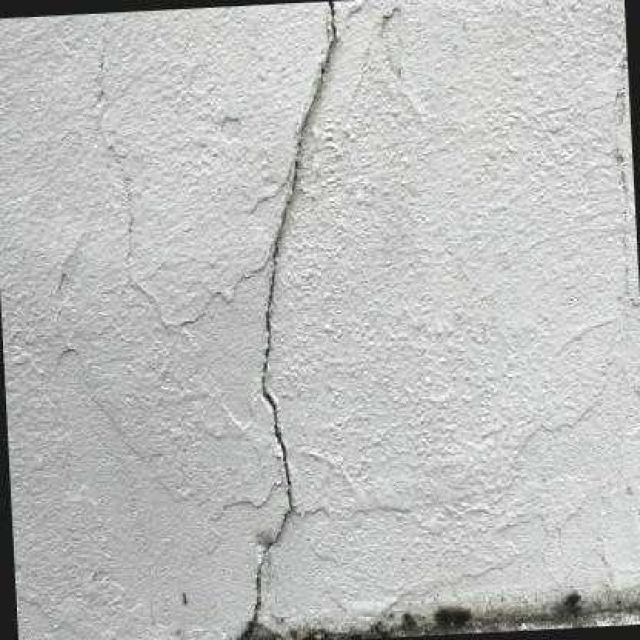D00: (229, 0, 339, 640)
